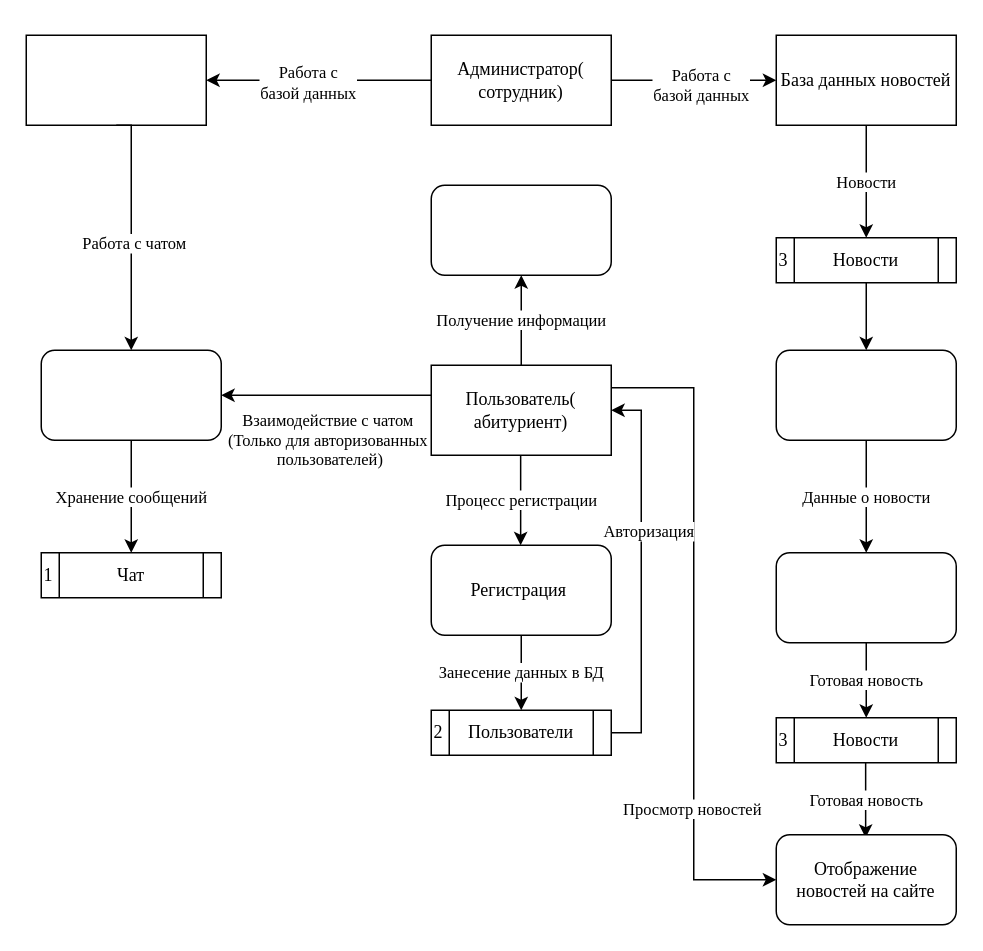
The diagram is 983 pixels wide and 951 high, and some of its shapes have lost their labels. Here are the shapes that lost their labels. From the top down, the centre of each, then its label:
At (x=115, y=79): "База данных чата".
At (x=520, y=229): "Просмотр информации на сайте".
At (x=130, y=394): "Контактирование с кафедрой посредством чата".
At (x=865, y=394): "Создать новость".
At (x=865, y=597): "Заполнение новостей данными".
